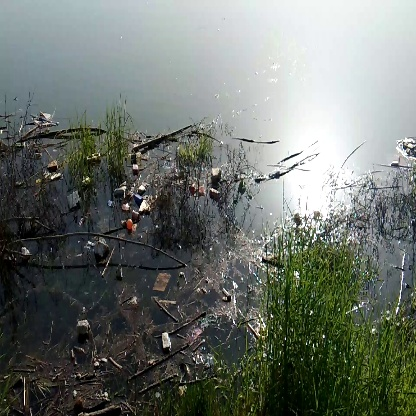branch: (7, 223, 190, 268)
